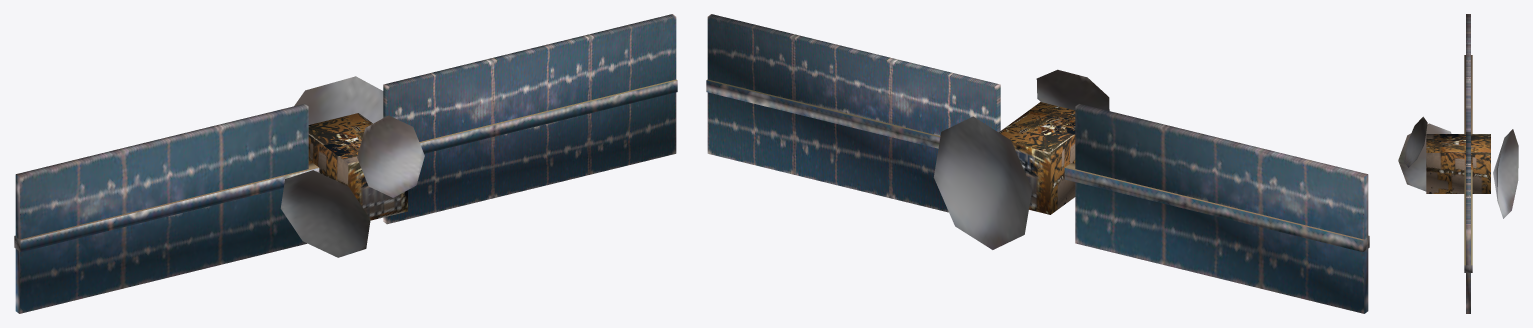
The model's file is uydu.fbx.
3 views of the same model, side by side, from view 1: azimuth 30°, elevation 25°; view 2: azimuth 150°, elevation 25°; view 3: azimuth 270°, elevation 25° (orthographic). The views are drawn at different scales.
Parts seen in each view (by area): view 1: Satellite; view 2: Satellite; view 3: Satellite.
Boxes of the visible parts, <box> form: Satellite: <box>14,14,677,313</box>; Satellite: <box>706,14,1369,313</box>; Satellite: <box>1398,14,1518,313</box>.
Bounding box in the file's own units: 49.26 × 11.95 × 9.83.
1 material, 1 textured.
